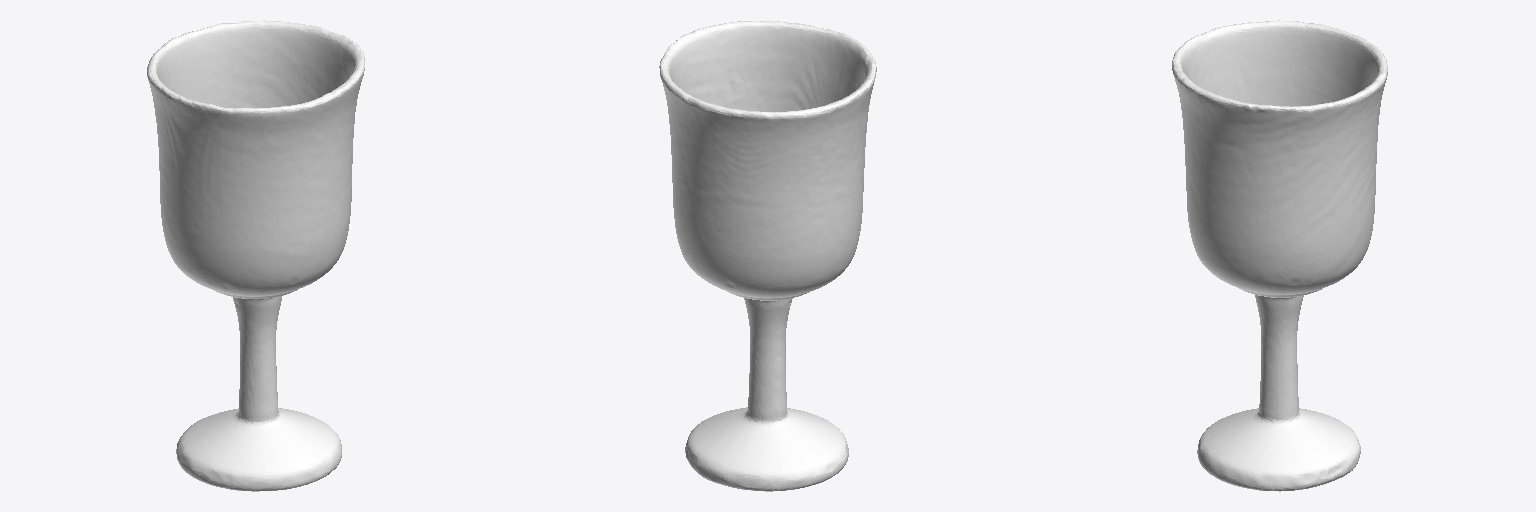
URDF robot description (model.urdf):
<robot name="model.urdf">
    <link name="baseLink">
        <contact>
            <lateral_friction value="0.42"/>
            <rolling_friction value="1"/>
            <spinning_friction value="1"/>
            <contact_cfm value="0.0"/>
            <contact_erp value="1.0"/>
        </contact>
        <inertial>
            <origin rpy="0 0 0" xyz="0 0.0 0.0"/>
            <mass value=".8"/>
            <inertia ixx="1e-3" ixy="0" ixz="0" iyy="1e-3" iyz="0" izz="1e-3"/>
        </inertial>
        <visual>
            <geometry>
                <mesh filename="nontextured.stl" scale="1 1 1"/>
            </geometry>
            <material name="white">
                <color rgba="1 1 1 1"/>
            </material>
        </visual>
        <collision>
            <geometry>
                <mesh filename="nontextured.stl" scale="1 1 1"/>
            </geometry>
        </collision>
    </link>
</robot>

--- Facts derived from the render (not from the file) ---
The picture shows the robot from 3 angles, left to right: view 1: azimuth 30°, elevation 25°; view 2: azimuth 150°, elevation 25°; view 3: azimuth 270°, elevation 25°; orthographic projection.
Robot: model.urdf — 1 links, 0 joints (none); root link baseLink; default pose: every joint at zero.
Visible links, largest first — view 1: baseLink; view 2: baseLink; view 3: baseLink.
Boxes of the visible links, x1,y1,x2,y2 form: baseLink: [147, 20, 364, 491]; baseLink: [659, 21, 876, 491]; baseLink: [1172, 20, 1387, 491].
Bounding box of the posed robot: 0.0665 × 0.0661 × 0.1341 m (x, y, z).
Meshes: 1 distinct files referenced, 1 mesh visuals loaded (1 binary STL).